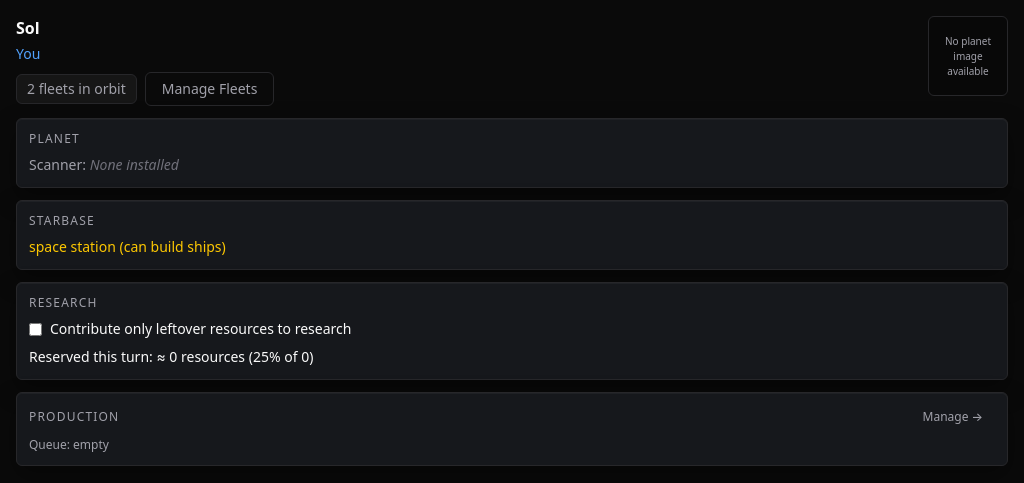
PlanetDetail › closes the fleets-in-orbit list and returns to planet details
The width and height of the screenshot is (1024, 483).
Click the button "2 fleets in orbit". click: x=76, y=89
box: [16,74,137,104]
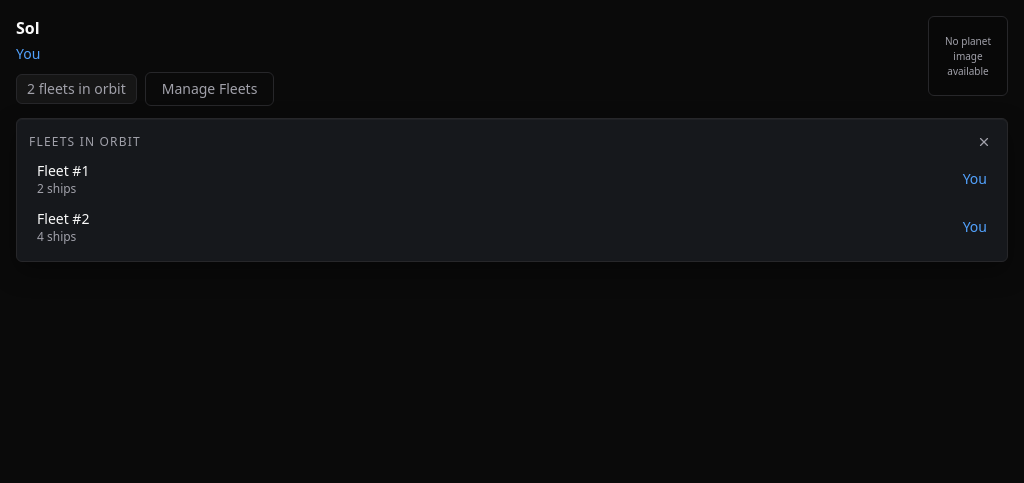
Click the button named "Close fleets in orbit". click: x=984, y=142
box: [973,131,995,153]
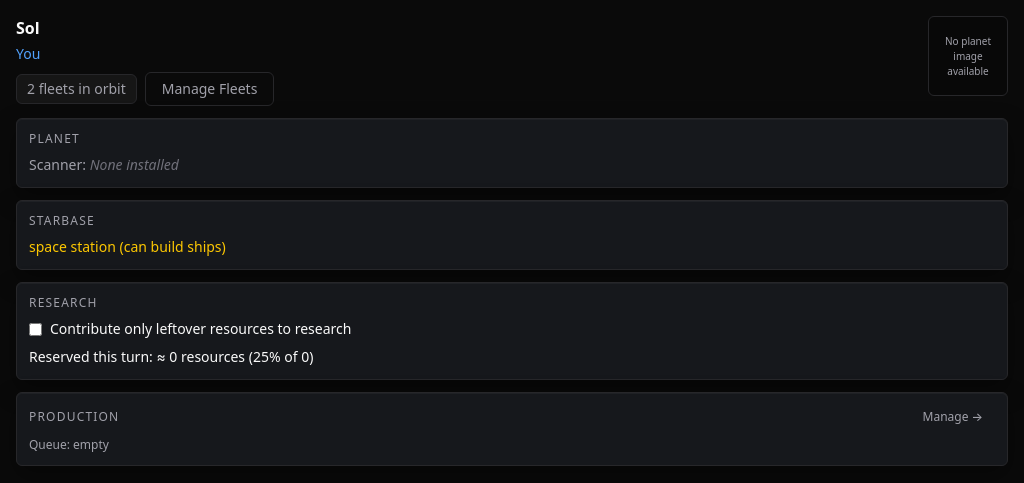
Expected: the text "Planet" is shown, [29,130,80,147]
Expected: the text "Starbase" is shown, [29,212,95,229]
Expected: the text "Production" is shown, [29,409,120,425]
